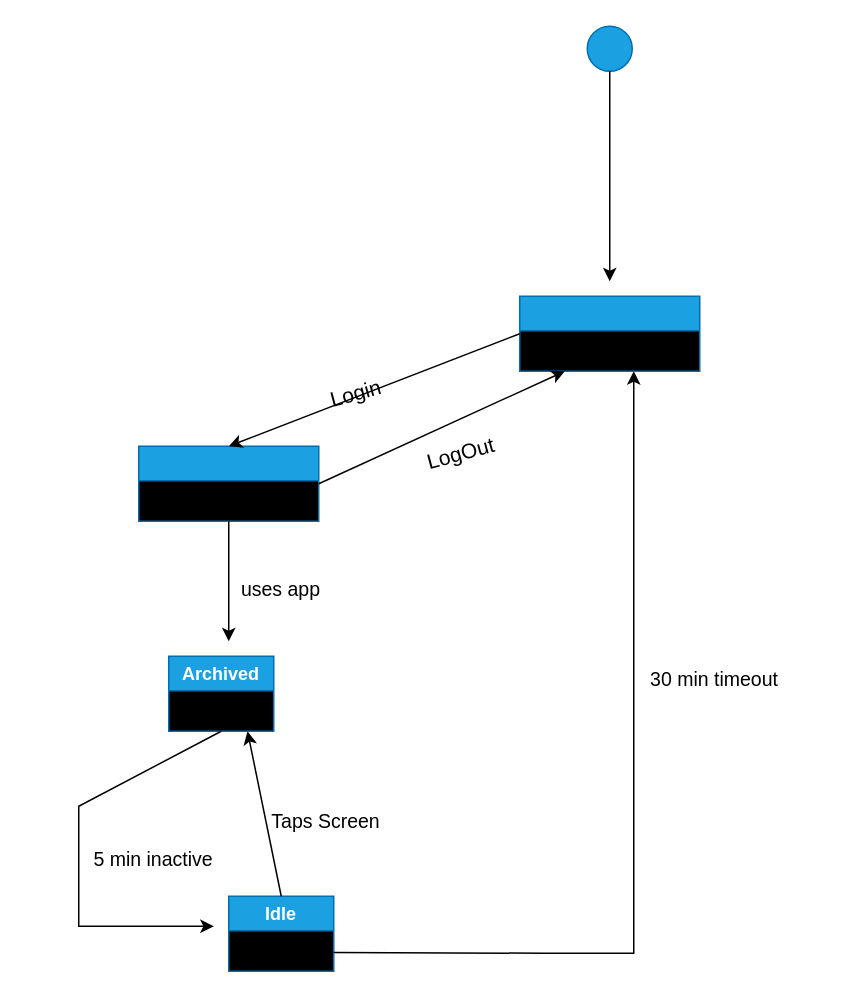
Image size: 867x998. Some labels were removed from this diagram. The centre of each missing label's shape, as x and y in pixels:
"LoggedIn" goes at point (228, 483).
"loggedOut" goes at point (609, 333).
